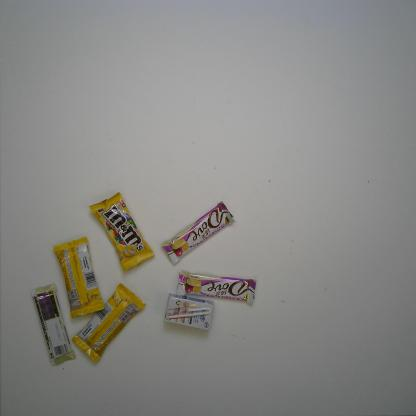Chocolate: (70, 283, 150, 364), (159, 199, 239, 271), (88, 189, 156, 273), (50, 237, 106, 318), (29, 279, 76, 371), (174, 270, 259, 307)
Milk: (162, 293, 218, 332)
